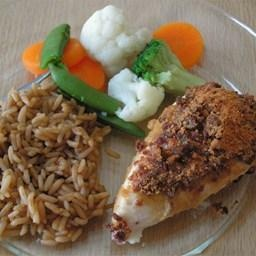background: (0, 1, 102, 98)
